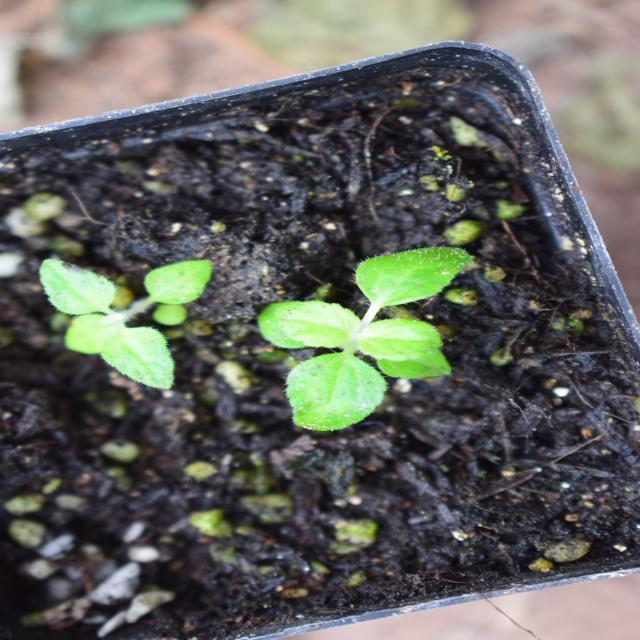billygoat_weed: (211, 274, 406, 492), (243, 30, 400, 222)
